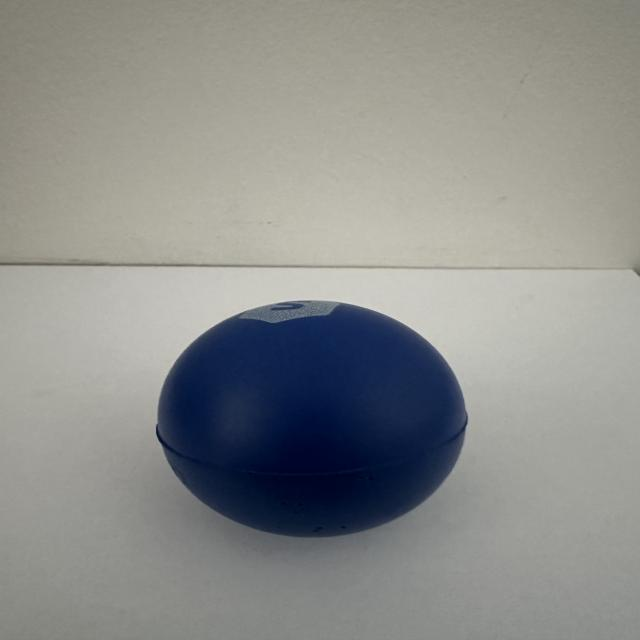blue_ball: (146, 246, 523, 552)
